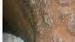plaque psoriasis: (38, 13, 51, 35), (67, 14, 75, 36), (51, 33, 65, 42), (51, 37, 75, 42), (52, 0, 70, 6)
